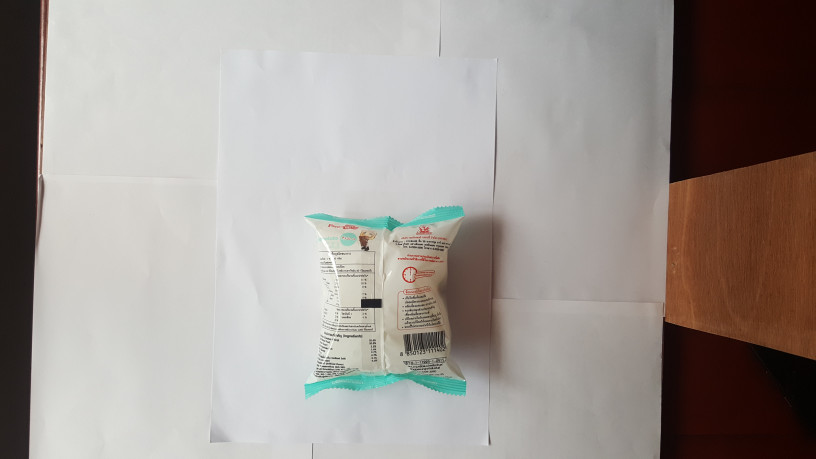farmhouse-sweetsandwich-chocolate: (300, 204, 470, 404)
